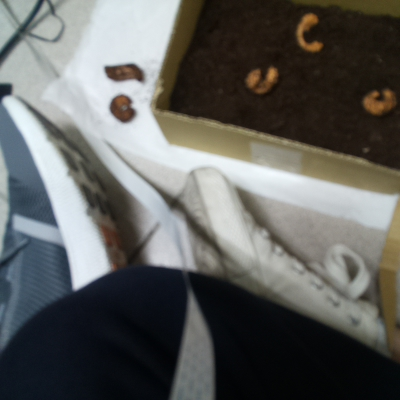eggs: (291, 8, 326, 58), (358, 83, 399, 121), (242, 61, 282, 98)
